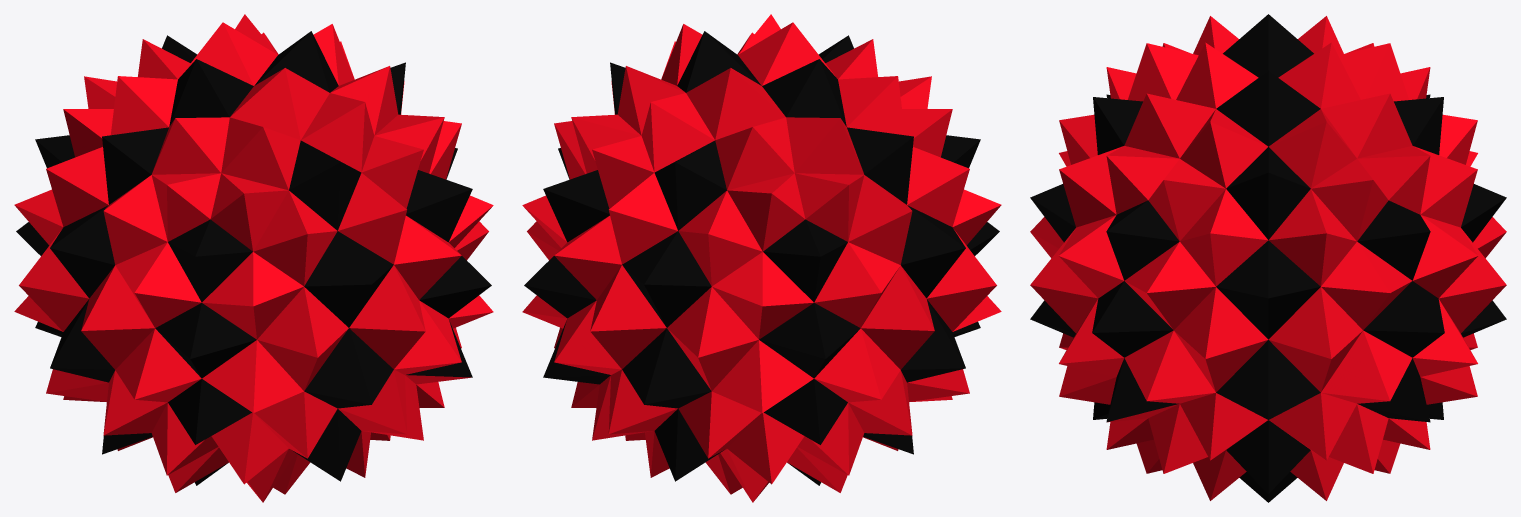
The model's file is enemy.fbx.
3 renders of one model, left to right at view 1: azimuth 30°, elevation 25°; view 2: azimuth 150°, elevation 25°; view 3: azimuth 270°, elevation 25°, orthographic.
Visible parts, largest first — view 1: Cube.001; view 2: Cube.001; view 3: Cube.001.
Part boxes in pixels (x1,y1,x2,y2): Cube.001: (14, 14, 493, 502); Cube.001: (522, 14, 1001, 502); Cube.001: (1030, 14, 1506, 502).
Bounding box in the file's own units: 311 × 311 × 311.
